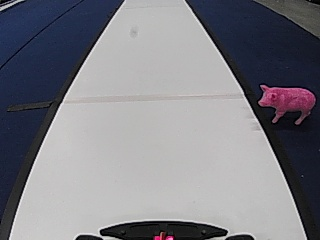pig: (256, 80, 316, 126)
